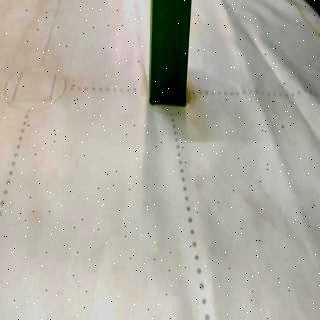greenbox: (148, 0, 192, 107)
